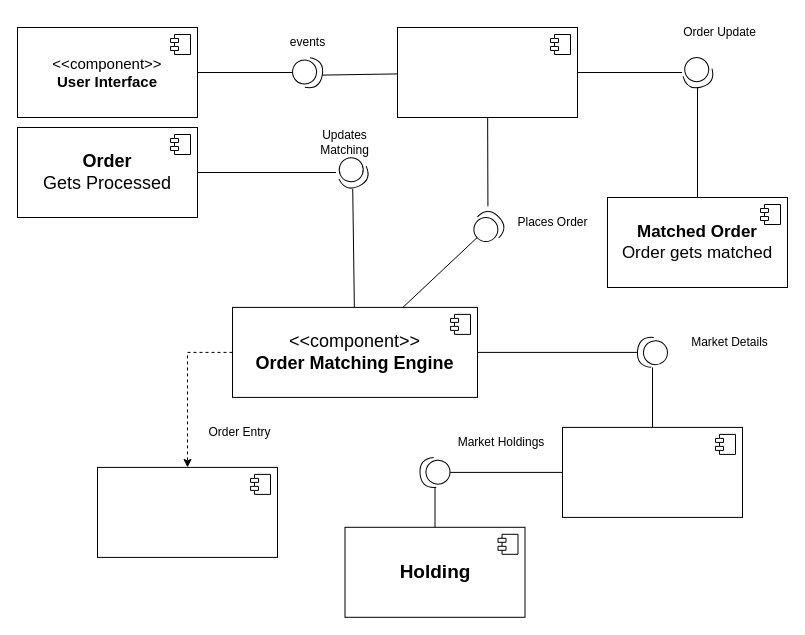
This 805x635 diagram has some shape labels left out. Here are the shapes that lost their labels. From the top down, the box of each, then its label:
(396, 26, 578, 118): User Places Order
(562, 426, 742, 517): Market Data
(96, 466, 278, 557): Order Book Updates the order placed
